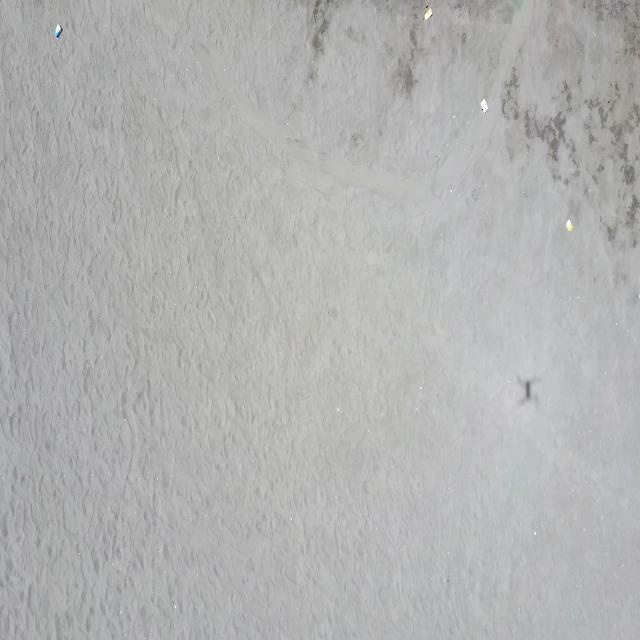retort-pouch: (52, 23, 64, 40), (423, 6, 434, 24), (480, 97, 489, 115), (565, 217, 573, 233)
